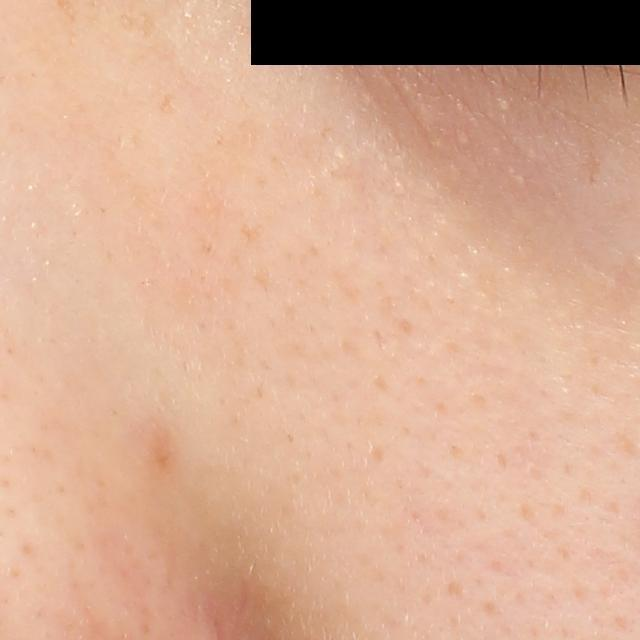melasma: (153, 90, 179, 117)
